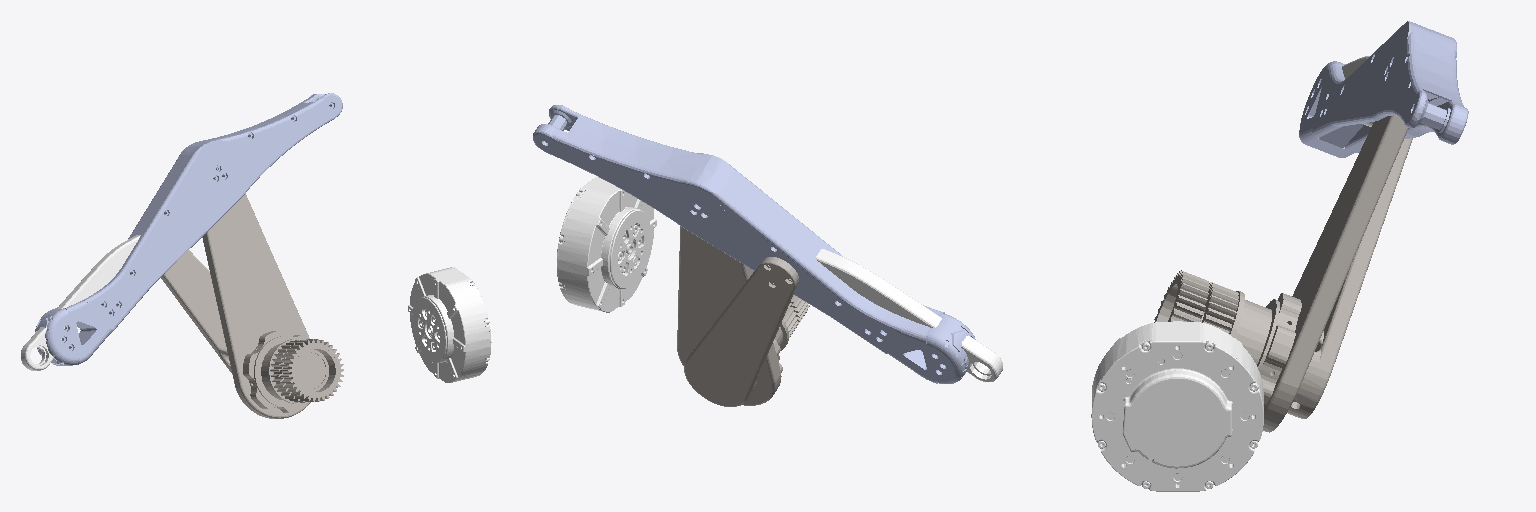
The robot description file, URDF, robot "mos_dog0727":
<?xml version="1.0" encoding="utf-8"?>
<!-- This URDF was automatically created by SolidWorks to URDF Exporter! Originally created by [author] ([email redacted]) 
     Commit Version: 1.6.0-4-g7f85cfe  Build Version: 1.6.7995.38578
     For more information, please see http://wiki.ros.org/sw_urdf_exporter -->
<robot
  name="mos_dog0727">
  <link
    name="hip_motor">
    <inertial>
      <origin
        xyz="0.0194551268079176 6.36966361748578E-05 -9.61004841047268E-05"
        rpy="0 0 0" />
      <mass
        value="0.193691939886921" />
      <inertia
        ixx="0.000212643438348687"
        ixy="2.52844683099132E-08"
        ixz="-3.06361088010136E-08"
        iyy="0.000111361588040042"
        iyz="-3.62933591243464E-07"
        izz="0.000115174943226426" />
    </inertial>
    <visual>
      <origin
        xyz="0 0 0"
        rpy="0 0 0" />
      <geometry>
        <mesh
          filename="package://mos_dog0727/meshes/hip_motor.STL" />
      </geometry>
      <material
        name="">
        <color
          rgba="1 1 1 1" />
      </material>
    </visual>
    <collision>
      <origin
        xyz="0 0 0"
        rpy="0 0 0" />
      <geometry>
        <mesh
          filename="package://mos_dog0727/meshes/hip_motor.STL" />
      </geometry>
    </collision>
  </link>
  <link
    name="hip_body">
    <inertial>
      <origin
        xyz="0.112158833215 -0.010467888429627 0.000152165519640979"
        rpy="0 0 0" />
      <mass
        value="0.97840250966566" />
      <inertia
        ixx="0.000911112321686209"
        ixy="5.94741312881277E-08"
        ixz="-1.41077325491889E-07"
        iyy="0.00263457972761172"
        iyz="-3.8832300327873E-07"
        izz="0.00207388396760231" />
    </inertial>
    <visual>
      <origin
        xyz="0 0 0"
        rpy="0 0 0" />
      <geometry>
        <mesh
          filename="package://mos_dog0727/meshes/hip_body.STL" />
      </geometry>
      <material
        name="">
        <color
          rgba="0.792156862745098 0.819607843137255 0.933333333333333 1" />
      </material>
    </visual>
    <collision>
      <origin
        xyz="0 0 0"
        rpy="0 0 0" />
      <geometry>
        <mesh
          filename="package://mos_dog0727/meshes/hip_body.STL" />
      </geometry>
    </collision>
  </link>
  <joint
    name="hip_joint"
    type="revolute">
    <origin
      xyz="-0.232 0 0"
      rpy="-0.40508 0 0" />
    <parent
      link="hip_motor" />
    <child
      link="hip_body" />
    <axis
      xyz="1 0 0" />
    <limit
      lower="0"
      upper="0"
      effort="0"
      velocity="0" />
  </joint>
  <link
    name="front_gear">
    <inertial>
      <origin
        xyz="-0.00709611298298662 -4.30211422042248E-16 -1.00613961606655E-15"
        rpy="0 0 0" />
      <mass
        value="0.0385237466196057" />
      <inertia
        ixx="1.02723402754827E-05"
        ixy="-2.11758236813575E-21"
        ixz="-2.11758236813575E-22"
        iyy="9.4738981050848E-06"
        iyz="-2.5410988417629E-21"
        izz="9.4738981050848E-06" />
    </inertial>
    <visual>
      <origin
        xyz="0 0 0"
        rpy="0 0 0" />
      <geometry>
        <mesh
          filename="package://mos_dog0727/meshes/front_gear.STL" />
      </geometry>
      <material
        name="">
        <color
          rgba="0.776470588235294 0.756862745098039 0.737254901960784 1" />
      </material>
    </visual>
    <collision>
      <origin
        xyz="0 0 0"
        rpy="0 0 0" />
      <geometry>
        <mesh
          filename="package://mos_dog0727/meshes/front_gear.STL" />
      </geometry>
    </collision>
  </link>
  <joint
    name="font_gear"
    type="continuous">
    <origin
      xyz="0.166 0 0"
      rpy="-2.1362 0 -1.5708" />
    <parent
      link="hip_body" />
    <child
      link="front_gear" />
    <axis
      xyz="1 0 0" />
    <limit
      lower="-1.57"
      upper="1.57"
      effort="20"
      velocity="2" />
  </joint>
  <link
    name="front_middle">
    <inertial>
      <origin
        xyz="0.0719699196521946 -0.00459233449849147 -0.0434001666746889"
        rpy="0 0 0" />
      <mass
        value="0.171586598360634" />
      <inertia
        ixx="0.000443406919636758"
        ixy="7.55932600983705E-07"
        ixz="7.09320700607168E-06"
        iyy="0.000439776385998155"
        iyz="-4.21570917357198E-05"
        izz="5.32958965335921E-05" />
    </inertial>
    <visual>
      <origin
        xyz="0 0 0"
        rpy="0 0 0" />
      <geometry>
        <mesh
          filename="package://mos_dog0727/meshes/front_middle.STL" />
      </geometry>
      <material
        name="">
        <color
          rgba="0.776470588235294 0.756862745098039 0.737254901960784 1" />
      </material>
    </visual>
    <collision>
      <origin
        xyz="0 0 0"
        rpy="0 0 0" />
      <geometry>
        <mesh
          filename="package://mos_dog0727/meshes/front_middle.STL" />
      </geometry>
    </collision>
  </link>
  <joint
    name="front_middle"
    type="continuous">
    <origin
      xyz="0 0.035318 -0.036806"
      rpy="0.56657 0 -3.1416" />
    <parent
      link="front_gear" />
    <child
      link="front_middle" />
    <axis
      xyz="1 0 0" />
    <limit
      lower="0"
      upper="0"
      effort="0"
      velocity="0" />
  </joint>
  <link
    name="shank_link">
    <inertial>
      <origin
        xyz="0.0722262549948705 0.00462277734098443 0.0143911382744808"
        rpy="0 0 0" />
      <mass
        value="0.046939056546293" />
      <inertia
        ixx="4.10947592671335E-06"
        ixy="5.12624832799925E-06"
        ixz="5.94860889375511E-07"
        iyy="0.000133019442393395"
        iyz="3.83014809794483E-08"
        izz="0.000135918543416535" />
    </inertial>
    <visual>
      <origin
        xyz="0 0 0"
        rpy="0 0 0" />
      <geometry>
        <mesh
          filename="package://mos_dog0727/meshes/shank_link.STL" />
      </geometry>
      <material
        name="">
        <color
          rgba="1 1 1 1" />
      </material>
    </visual>
    <collision>
      <origin
        xyz="0 0 0"
        rpy="0 0 0" />
      <geometry>
        <mesh
          filename="package://mos_dog0727/meshes/shank_link.STL" />
      </geometry>
    </collision>
  </link>
  <joint
    name="shank_joint"
    type="continuous">
    <origin
      xyz="0.053931 -0.016692 -0.15549"
      rpy="-1.5708 0.018564 -1.5708" />
    <parent
      link="front_middle" />
    <child
      link="shank_link" />
    <axis
      xyz="0 0 1" />
  </joint>
  <link
    name="back_gear">
    <inertial>
      <origin
        xyz="-1.38777878078145E-15 -1.52655665885959E-16 0.0213772870634909"
        rpy="0 0 0" />
      <mass
        value="0.046468593190171" />
      <inertia
        ixx="1.044546863586E-05"
        ixy="8.470329472543E-22"
        ixz="1.79994501291539E-21"
        iyy="1.044546863586E-05"
        iyz="-5.0821976835258E-21"
        izz="1.19792859161395E-05" />
    </inertial>
    <visual>
      <origin
        xyz="0 0 0"
        rpy="0 0 0" />
      <geometry>
        <mesh
          filename="package://mos_dog0727/meshes/back_gear.STL" />
      </geometry>
      <material
        name="">
        <color
          rgba="0.792156862745098 0.819607843137255 0.933333333333333 1" />
      </material>
    </visual>
    <collision>
      <origin
        xyz="0 0 0"
        rpy="0 0 0" />
      <geometry>
        <mesh
          filename="package://mos_dog0727/meshes/back_gear.STL" />
      </geometry>
    </collision>
  </link>
  <joint
    name="back_gear"
    type="fixed">
    <origin
      xyz="0.066 -0.00585 0"
      rpy="1.5708 0.99023 3.1416" />
    <parent
      link="hip_body" />
    <child
      link="back_gear" />
    <axis
      xyz="0 0 0" />
  </joint>
  <link
    name="back_middle">
    <inertial>
      <origin
        xyz="-0.0295367878866366 -0.0475320764348792 -8.25635702465105E-06"
        rpy="0 0 0" />
      <mass
        value="0.218415805551476" />
      <inertia
        ixx="0.000728917714027351"
        ixy="-1.45431101195225E-05"
        ixz="-2.52904361687544E-09"
        iyy="8.77564112554255E-05"
        iyz="-1.00893607165187E-07"
        izz="0.000666819472527857" />
    </inertial>
    <visual>
      <origin
        xyz="0 0 0"
        rpy="0 0 0" />
      <geometry>
        <mesh
          filename="package://mos_dog0727/meshes/back_middle.STL" />
      </geometry>
      <material
        name="">
        <color
          rgba="0.776470588235294 0.756862745098039 0.737254901960784 1" />
      </material>
    </visual>
    <collision>
      <origin
        xyz="0 0 0"
        rpy="0 0 0" />
      <geometry>
        <mesh
          filename="package://mos_dog0727/meshes/back_middle.STL" />
      </geometry>
    </collision>
  </link>
  <joint
    name="back_middle"
    type="fixed">
    <origin
      xyz="-0.01898 -0.047347 0.038"
      rpy="2.2819 1.5708 0" />
    <parent
      link="back_gear" />
    <child
      link="back_middle" />
    <axis
      xyz="0 0 0" />
  </joint>
  <link
    name="thigh">
    <inertial>
      <origin
        xyz="-0.0675793464112738 0.00375946274148686 0.0394745065429045"
        rpy="0 0 0" />
      <mass
        value="0.28622252788818" />
      <inertia
        ixx="7.0874841436314E-05"
        ixy="-8.83745676017581E-05"
        ixz="1.21994032732064E-06"
        iyy="0.00125411480709582"
        iyz="3.66046030698773E-08"
        izz="0.00130942111467501" />
    </inertial>
    <visual>
      <origin
        xyz="0 0 0"
        rpy="0 0 0" />
      <geometry>
        <mesh
          filename="package://mos_dog0727/meshes/thigh.STL" />
      </geometry>
      <material
        name="">
        <color
          rgba="0.792156862745098 0.819607843137255 0.933333333333333 1" />
      </material>
    </visual>
    <collision>
      <origin
        xyz="0 0 0"
        rpy="0 0 0" />
      <geometry>
        <mesh
          filename="package://mos_dog0727/meshes/thigh.STL" />
      </geometry>
    </collision>
  </link>
  <joint
    name="thigh"
    type="continuous">
    <origin
      xyz="0 -0.18 -3.1403E-05"
      rpy="1.5708 -1.1311 -1.5708" />
    <parent
      link="back_middle" />
    <child
      link="thigh" />
    <axis
      xyz="0 0 1" />
  </joint>
</robot>

--- Facts derived from the render (not from the file) ---
The picture shows the robot from 3 angles, left to right: view 1: azimuth 30°, elevation 25°; view 2: azimuth 150°, elevation 25°; view 3: azimuth 270°, elevation 25°; orthographic projection.
Model mos_dog0727 with 8 links and 7 joints (1 revolute, 4 continuous, 2 fixed), rooted at hip_motor, posed every joint at zero.
Links seen in each view (by area): view 1: thigh, back_middle, hip_motor, front_middle, shank_link; view 2: thigh, hip_motor, front_middle, back_middle, shank_link; view 3: hip_motor, back_middle, thigh, front_middle.
Link boxes in pixels (bbox=[...]): thigh: bbox=[35, 93, 342, 365]; back_middle: bbox=[202, 193, 310, 418]; hip_motor: bbox=[408, 267, 491, 382]; front_middle: bbox=[161, 250, 343, 401]; shank_link: bbox=[21, 235, 140, 370]; thigh: bbox=[533, 105, 975, 383]; hip_motor: bbox=[557, 176, 656, 312]; front_middle: bbox=[684, 257, 809, 406]; back_middle: bbox=[677, 226, 797, 405]; shank_link: bbox=[816, 249, 1002, 381]; hip_motor: bbox=[1091, 321, 1263, 491]; back_middle: bbox=[1202, 115, 1408, 432]; thigh: bbox=[1299, 21, 1468, 157]; front_middle: bbox=[1154, 138, 1412, 418].
Bounding box of the posed robot: 0.3962 × 0.2106 × 0.2494 m (x, y, z).
5 mesh visuals loaded from 8 distinct referenced files (5 binary STL); not drawn: 3 (reference not matched to a file when rendering).
